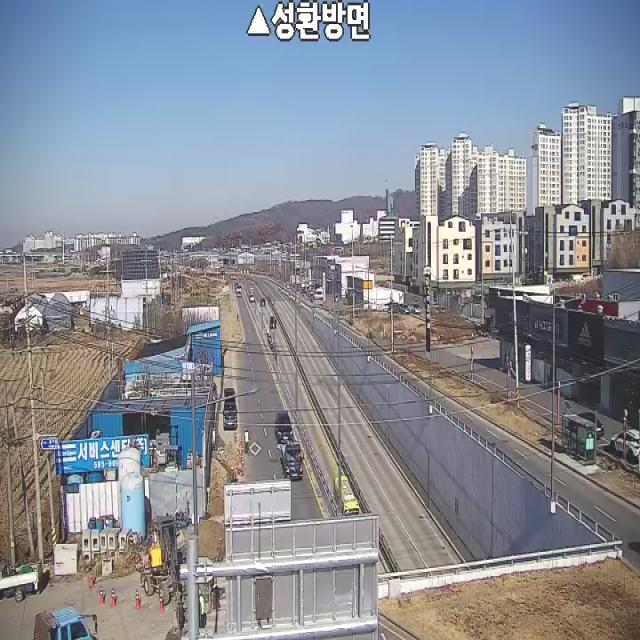Bus: (333, 476, 360, 516)
Car: (611, 429, 640, 465), (574, 411, 606, 441), (274, 412, 294, 445), (270, 316, 276, 329), (260, 298, 266, 306)
Truck: (142, 508, 192, 606), (34, 607, 99, 640), (0, 558, 43, 602), (280, 442, 304, 481), (223, 388, 237, 428)
